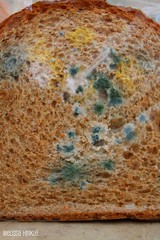mold_bread: (90, 69, 121, 119), (45, 161, 90, 190), (57, 60, 87, 98), (1, 44, 27, 80), (104, 48, 127, 68), (88, 124, 105, 144), (121, 123, 138, 140), (98, 156, 117, 171), (54, 143, 75, 154), (72, 105, 83, 118), (65, 128, 76, 140), (138, 112, 148, 125), (59, 29, 65, 36)
